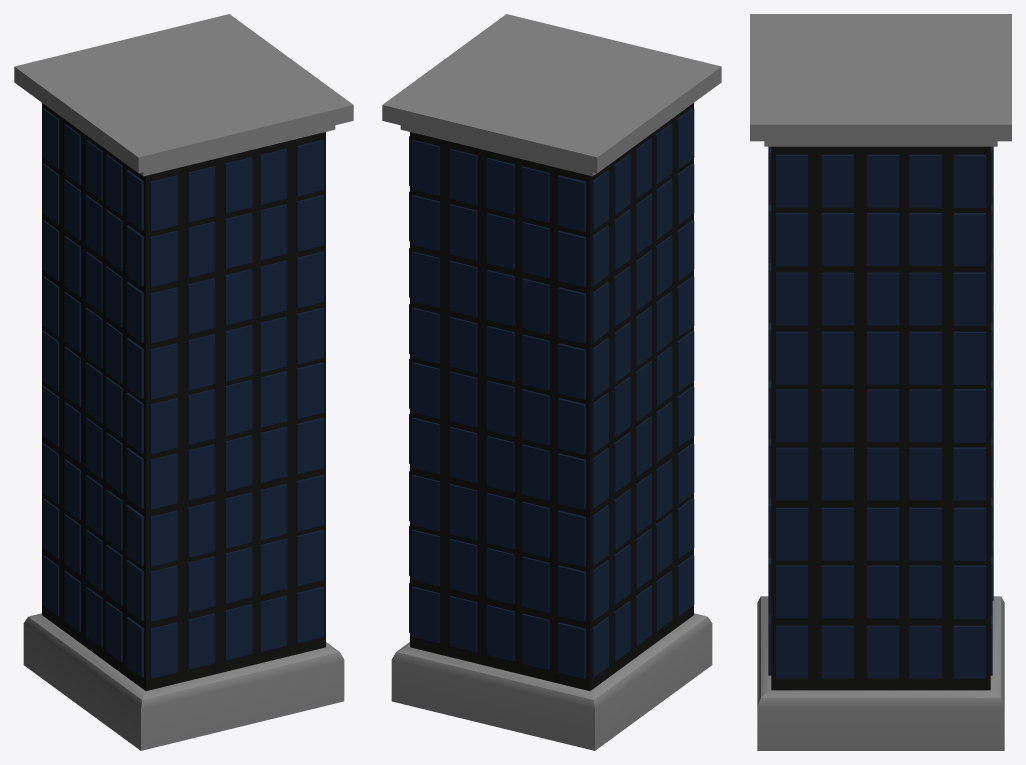
The model's file is Building_Medium.fbx.
The picture shows the model from 3 angles, left to right: view 1: azimuth 30°, elevation 25°; view 2: azimuth 150°, elevation 25°; view 3: azimuth 270°, elevation 25°; orthographic projection. The views are drawn at different scales.
Parts seen in each view (by area): view 1: Building_Medium; view 2: Building_Medium; view 3: Building_Medium.
Part boxes in pixels (<box>): Building_Medium: <box>14,14,353,750</box>; Building_Medium: <box>382,14,721,750</box>; Building_Medium: <box>750,14,1011,750</box>.
Size of the model in its own units: 4.33 by 11.49 by 4.33.
